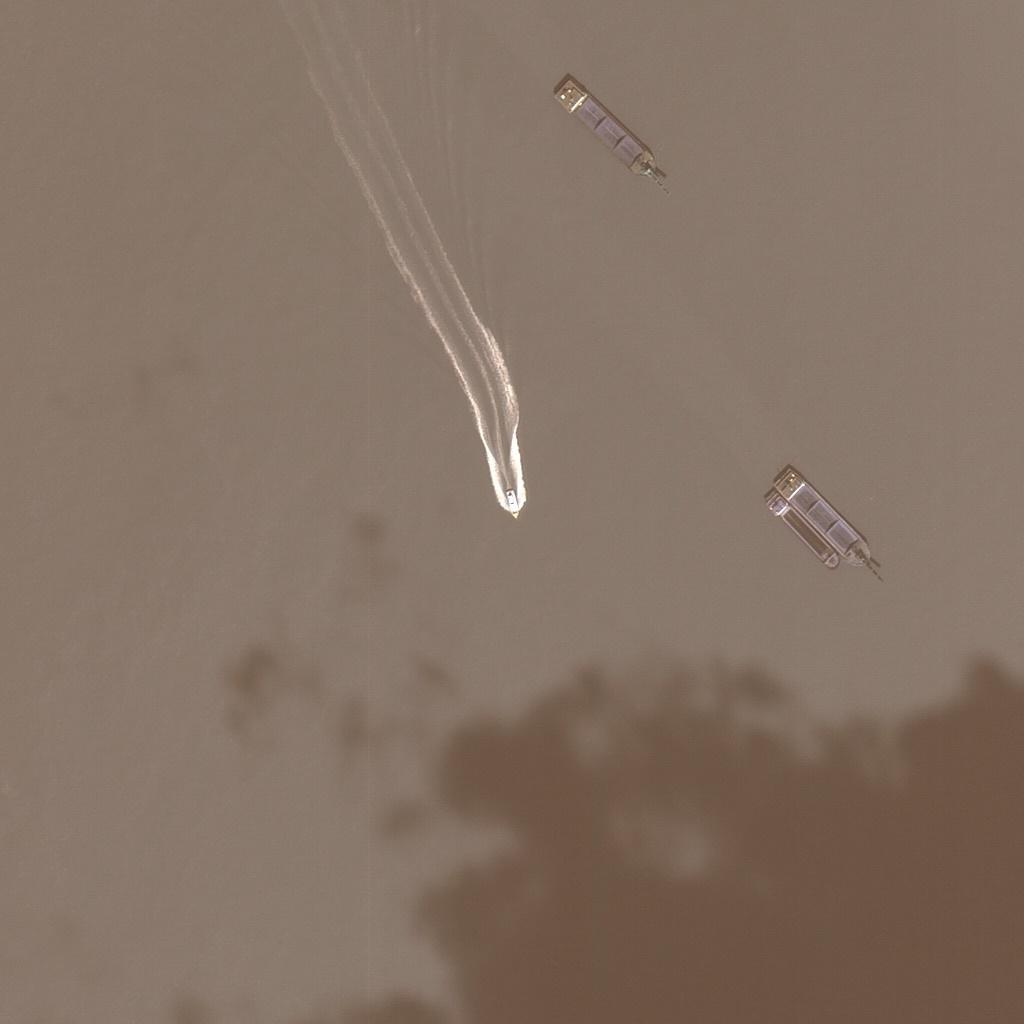ship: (548, 70, 678, 188), (766, 488, 846, 574), (505, 502, 524, 510)
